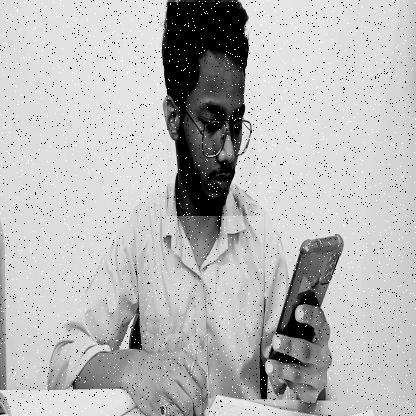Distracted: (167, 2, 257, 216)
